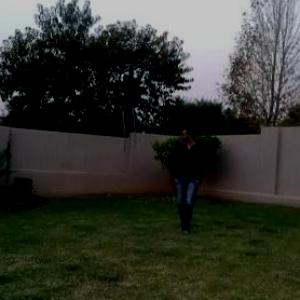follow: (172, 123, 204, 234)
